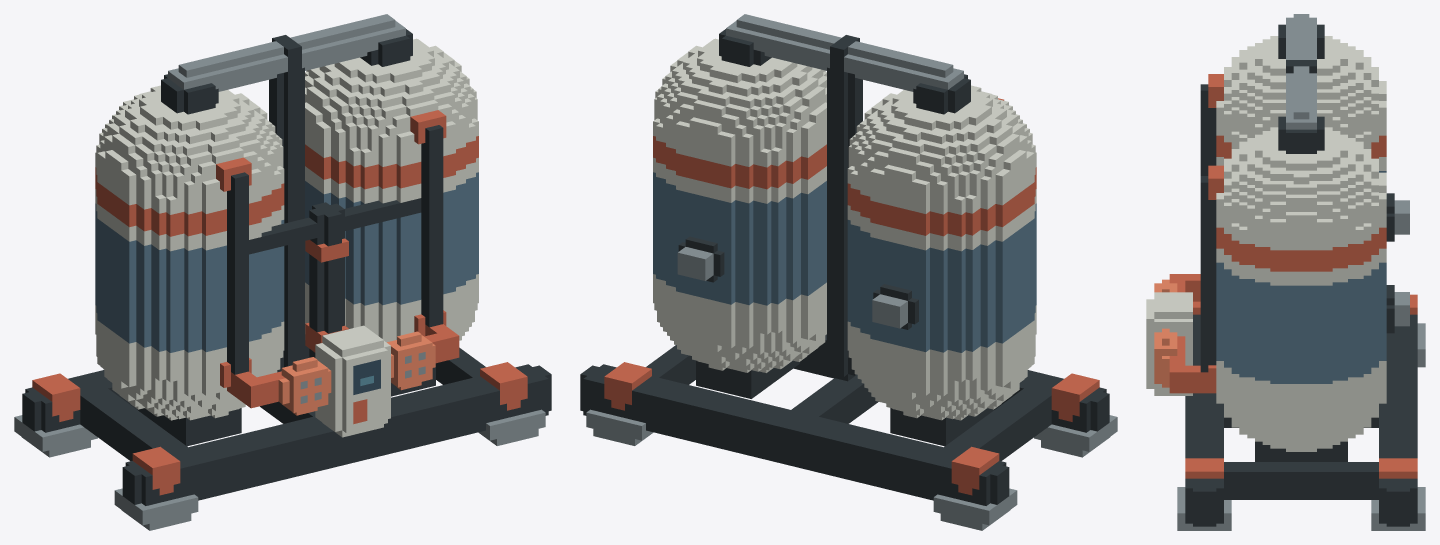
File: fuel_tank.glb
3 views of the same model, side by side, from view 1: azimuth 30°, elevation 25°; view 2: azimuth 150°, elevation 25°; view 3: azimuth 270°, elevation 25° (orthographic). The views are drawn at different scales.
Parts seen in each view (by area): view 1: fuel_tank; view 2: fuel_tank; view 3: fuel_tank.
Part boxes in pixels (x1,y1,x2,y2): fuel_tank: (14, 14, 551, 530); fuel_tank: (580, 14, 1117, 530); fuel_tank: (1146, 14, 1425, 530).
Size of the model in its own units: 4.8 by 4.32 by 2.88.
